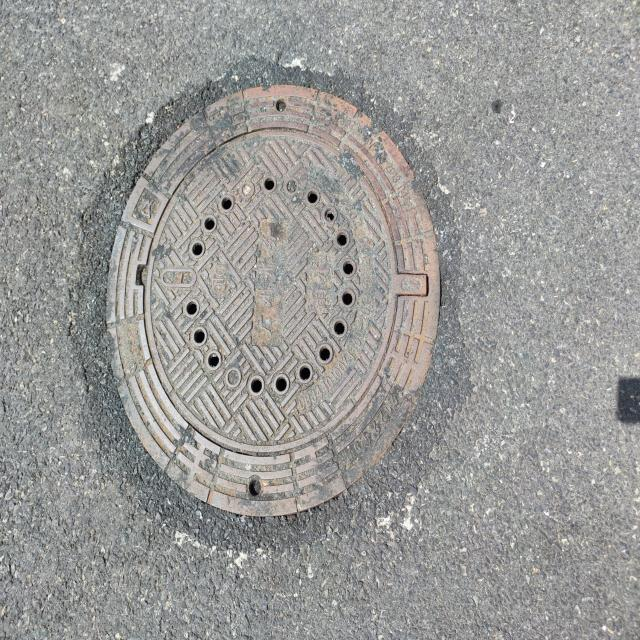Good: (100, 83, 448, 521)
